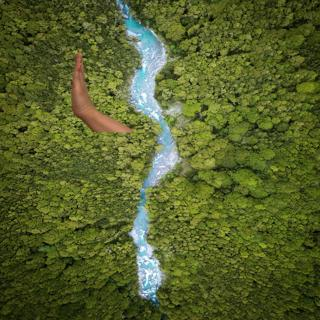RIGHT: (66, 48, 96, 124)
